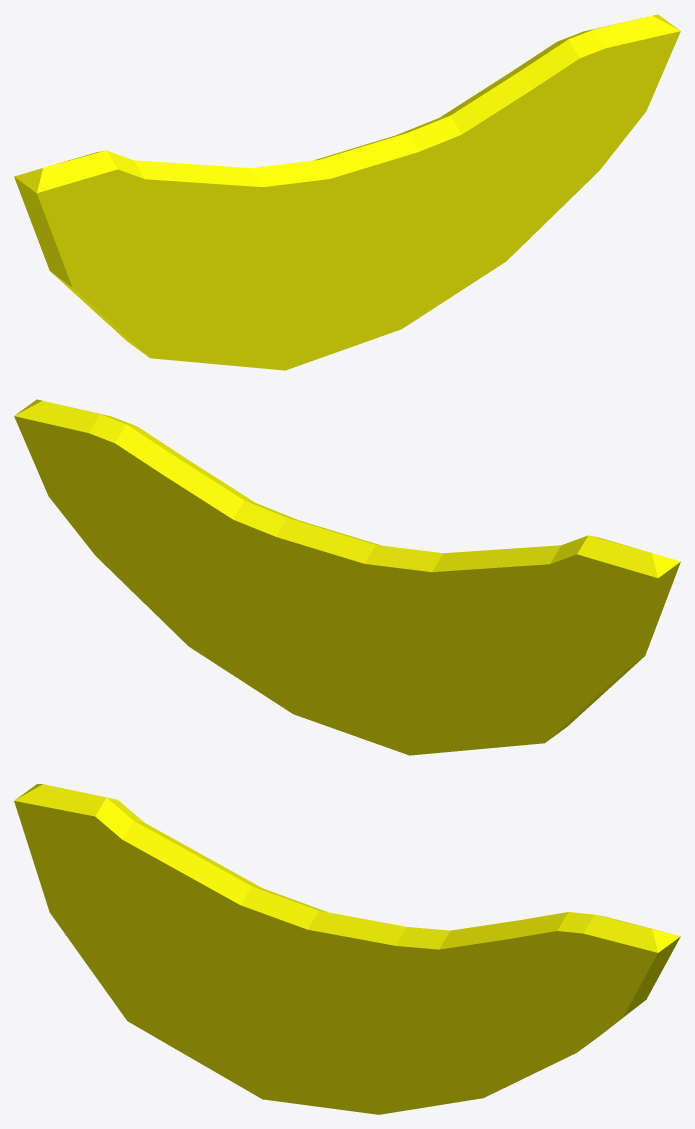
File: mango03.obj
3 renders of one model, top to bottom at view 1: azimuth 30°, elevation 25°; view 2: azimuth 150°, elevation 25°; view 3: azimuth 330°, elevation 25°, orthographic.
Parts seen in each view (by area): view 1: Cylinder; view 2: Cylinder; view 3: Cylinder.
Part boxes in pixels (box(x1,y1,x2,y2)): Cylinder: box(14, 14, 680, 370); Cylinder: box(14, 399, 680, 755); Cylinder: box(14, 784, 680, 1114).
Bounding box in the file's own units: 0.1116 × 0.0422 × 0.00684.
1 material, 1 textured.
